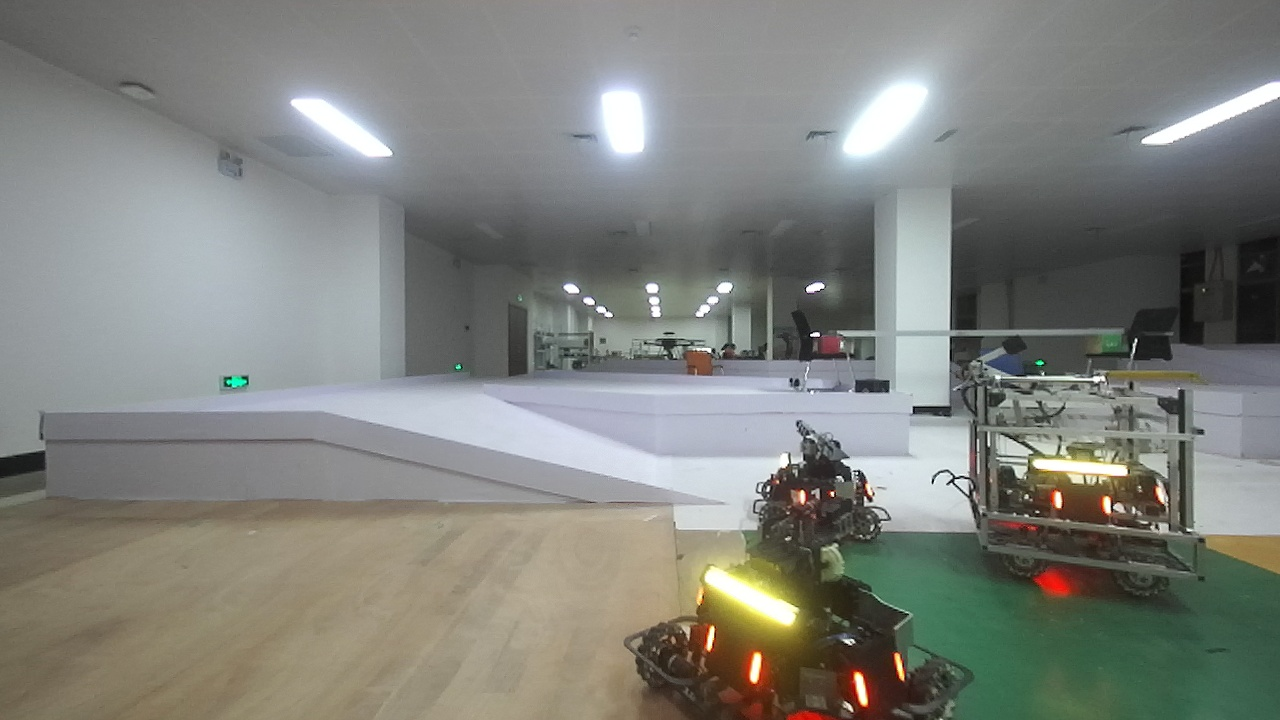car: (953, 349, 1218, 609), (644, 545, 968, 720), (733, 421, 911, 548)
